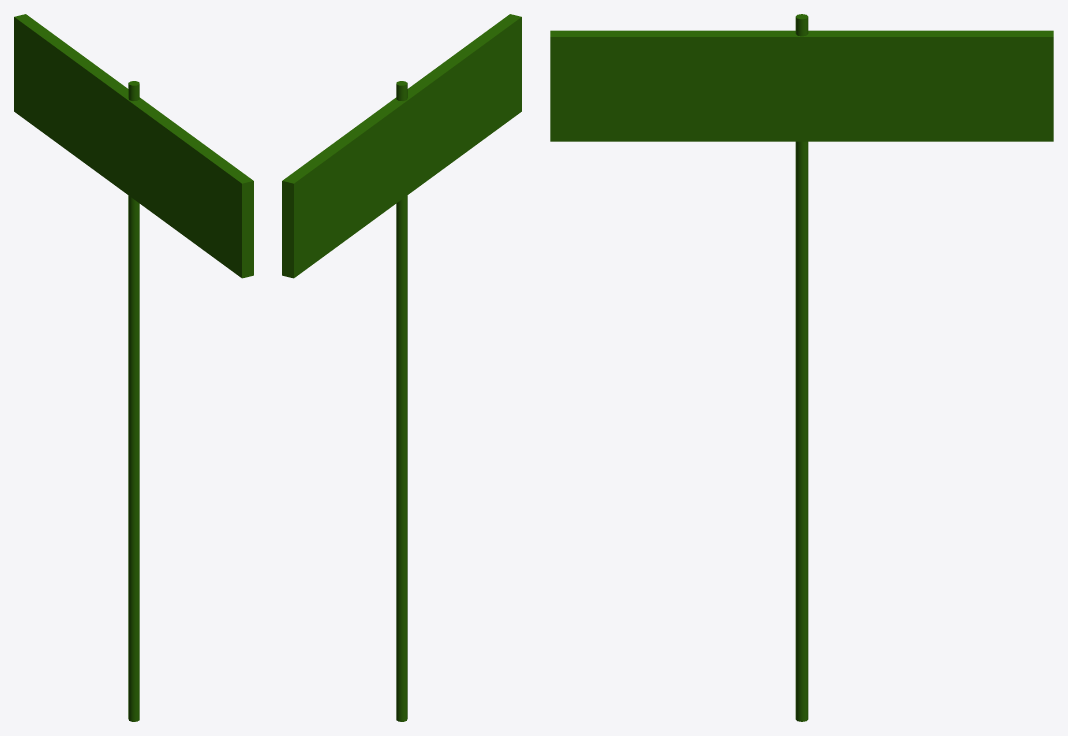
The model's file is StreetSign.fbx.
3 renders of one model, left to right at view 1: azimuth 30°, elevation 25°; view 2: azimuth 150°, elevation 25°; view 3: azimuth 270°, elevation 25°, orthographic. The views are drawn at different scales.
Parts seen in each view (by area): view 1: Streetsiign_MESH; view 2: Streetsiign_MESH; view 3: Streetsiign_MESH.
Boxes of the visible parts, box(x1,y1,x2,y2) form: Streetsiign_MESH: box(14, 14, 253, 721); Streetsiign_MESH: box(282, 14, 521, 721); Streetsiign_MESH: box(550, 14, 1053, 721).
Size of the model in its own units: 0.0343 by 1.77 by 1.15.
